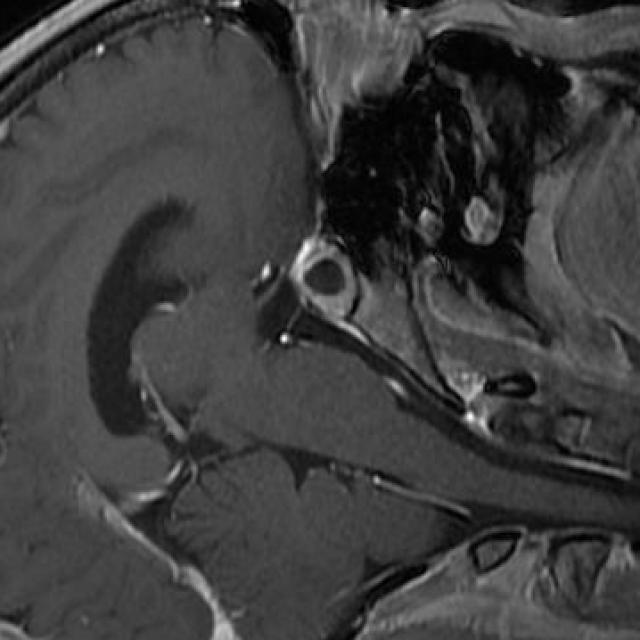pituitary: (291, 242, 355, 317)
